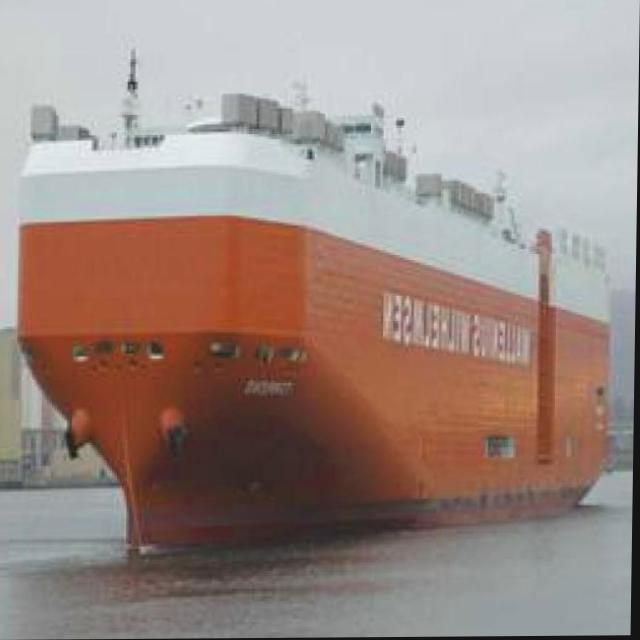ship2: (16, 51, 615, 557)
